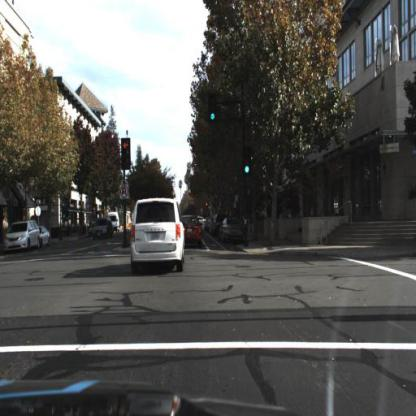car: (127, 192, 189, 280), (172, 205, 207, 259), (3, 218, 40, 252), (220, 218, 247, 245), (92, 218, 114, 241), (107, 208, 121, 236), (36, 224, 52, 247)
trafficLight: (243, 144, 252, 173)
trafficLight-Green: (210, 92, 219, 121)
trafficLight-RedLeft: (119, 138, 133, 169)
